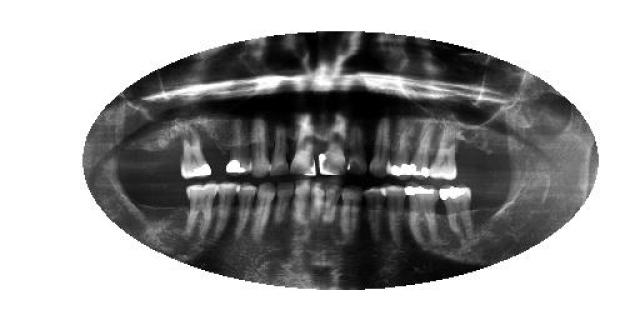Fillings: (404, 182, 441, 248), (438, 184, 474, 238), (180, 124, 212, 178), (408, 120, 437, 179), (388, 115, 412, 177), (226, 117, 250, 175)
